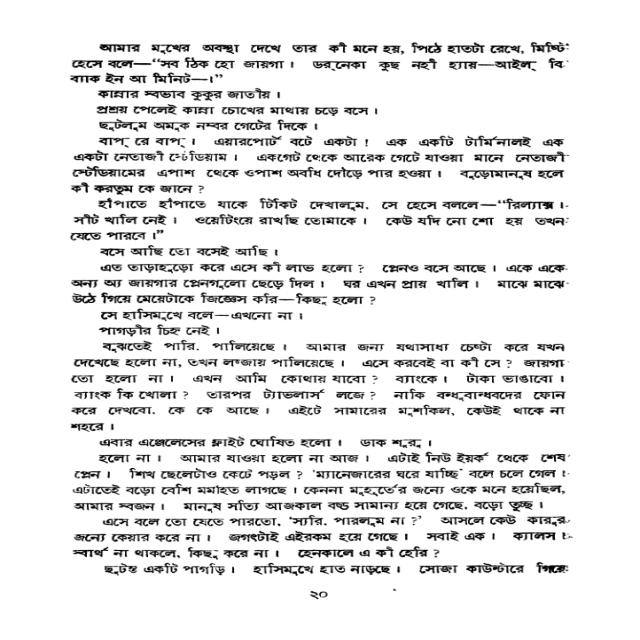page number: (303, 587, 333, 604)
paragraph: (68, 339, 568, 434), (76, 449, 567, 521), (72, 134, 563, 196), (67, 513, 569, 562), (68, 196, 566, 245), (72, 259, 567, 308), (69, 39, 567, 87), (80, 560, 570, 580), (78, 434, 452, 450), (94, 102, 379, 118), (95, 119, 343, 133), (94, 307, 308, 323), (93, 243, 281, 259), (91, 87, 277, 102), (94, 324, 223, 338)
